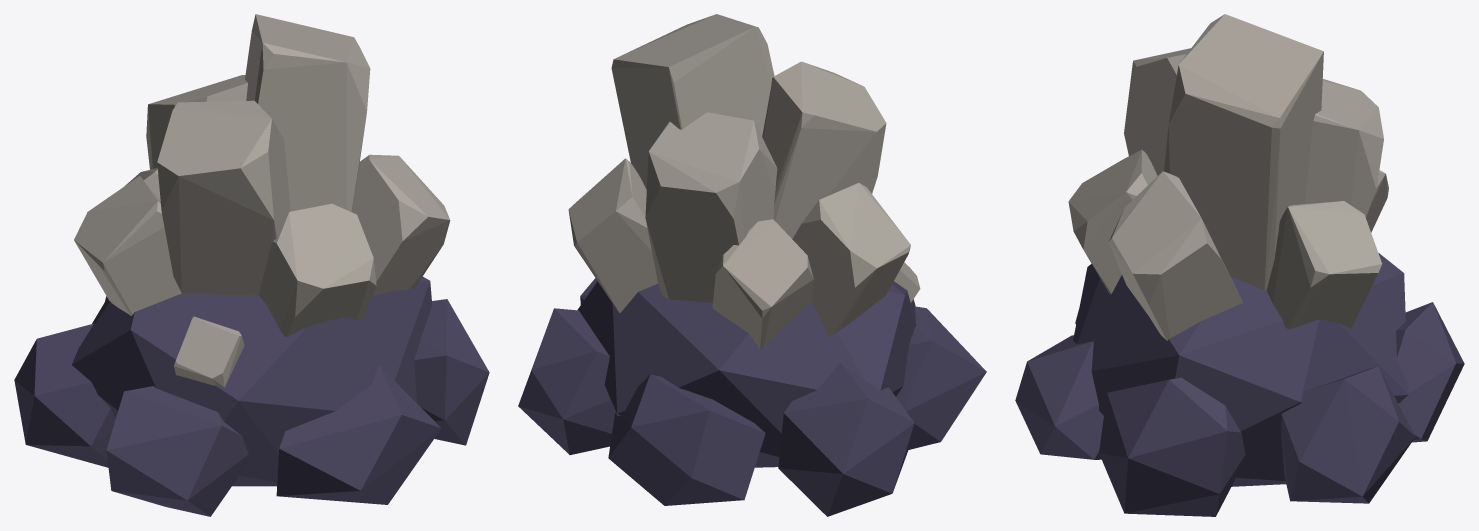
File: Ore_Iron.fbx
3 views of the same model, side by side, from view 1: azimuth 30°, elevation 25°; view 2: azimuth 150°, elevation 25°; view 3: azimuth 270°, elevation 25° (orthographic). The views are drawn at different scales.
Visible parts, largest first — view 1: Ore_Rock, Ore_Crystal; view 2: Ore_Crystal, Ore_Rock; view 3: Ore_Rock, Ore_Crystal.
Boxes of the visible parts, x1=… form: Ore_Rock: x1=14, y1=276, x2=489, y2=516; Ore_Crystal: x1=74, y1=14, x2=450, y2=387; Ore_Crystal: x1=568, y1=14, x2=920, y2=348; Ore_Rock: x1=518, y1=278, x2=986, y2=516; Ore_Rock: x1=1015, y1=253, x2=1464, y2=516; Ore_Crystal: x1=1068, y1=14, x2=1388, y2=340.
Bounding box in the file's own units: 1.85 × 2 × 1.85.
